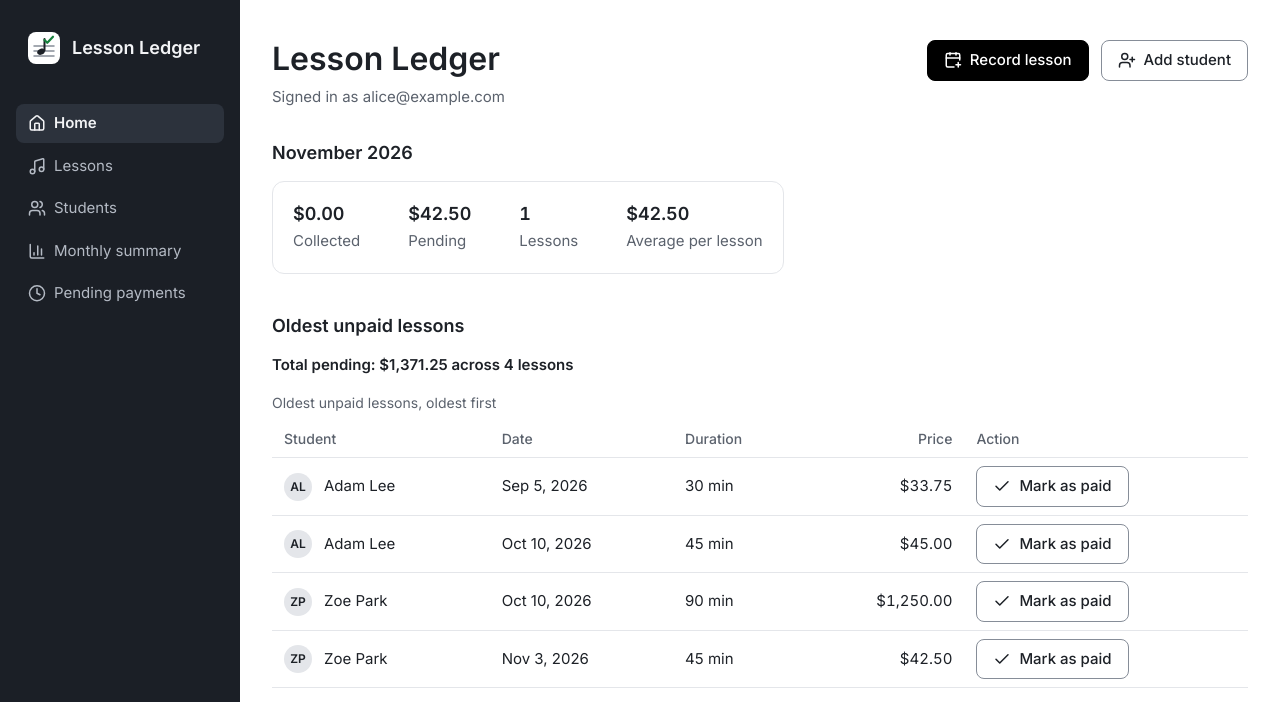
F07 AC-3 mark as paid on Home › AC-3d on a 5xx an alert explains it; row, figures and total stay; focus returns
Expected: the text "Signed in as alice@example.com" is shown, [272, 86, 505, 109]
Expected: the table "Oldest unpaid lessons, oldest first" is shown, [272, 393, 1248, 688]
Click the 2nd button "Mark as paid" at {"x": 1052, "y": 544}, box [976, 524, 1129, 564]
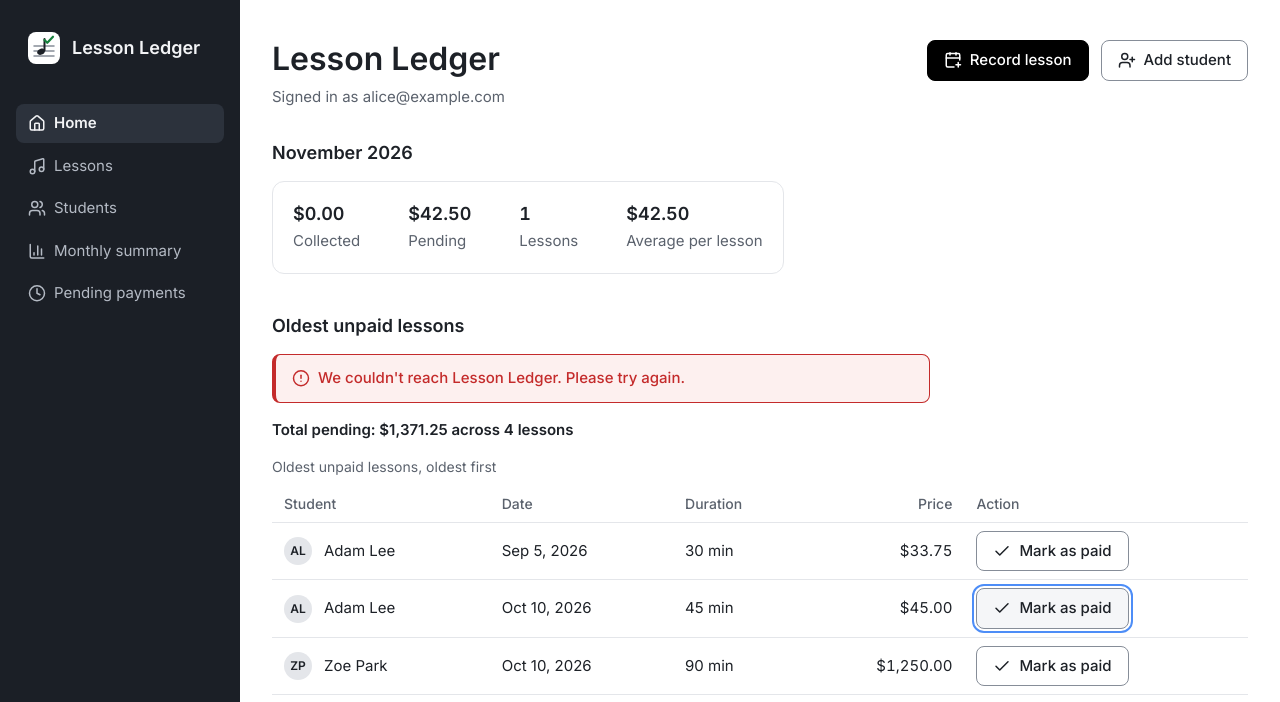
Expected: the text "Total pending: $1,371.25 across 4 lessons" is shown, [272, 420, 574, 439]
Expected: the message reads "We couldn't reach Lesson Ledger. Please try again.", [318, 368, 685, 387]
Expected: the message "We couldn't reach Lesson Ledger. Please try again." is shown, [272, 354, 930, 403]
